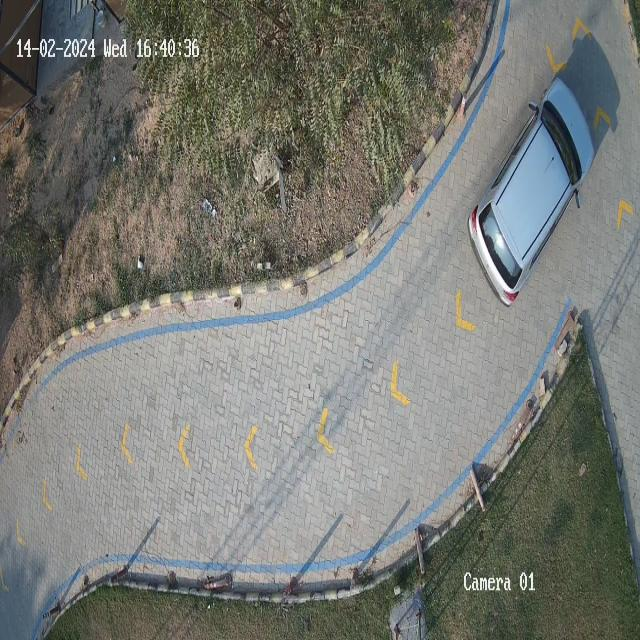car: (468, 78, 595, 306)
